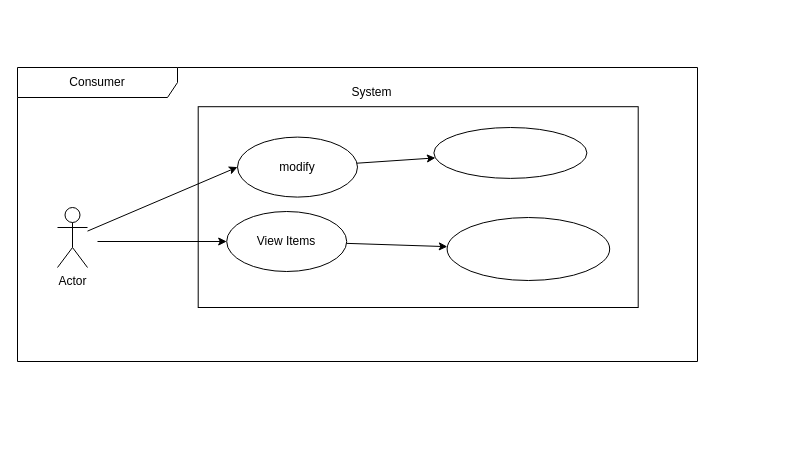
This 810x474 diagram has some shape labels left out. Each missing label, with the box of its shape:
purchase: (433, 126, 587, 178)
Surplus / Non Surplus: (446, 216, 610, 280)
